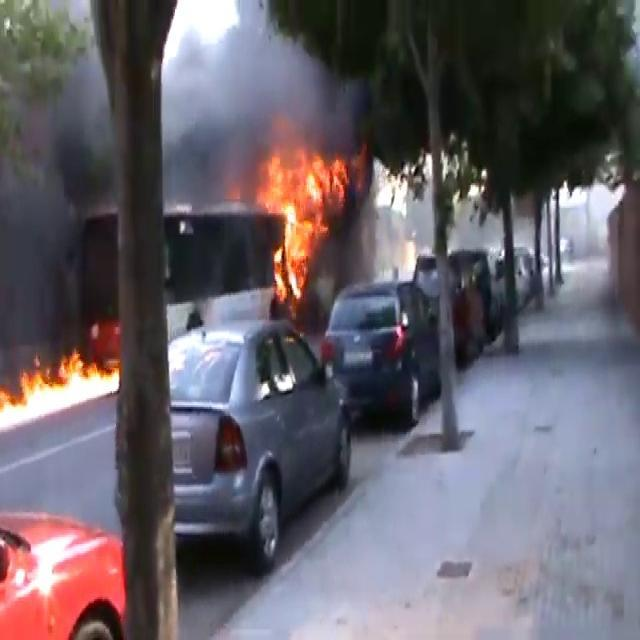Fire: (252, 140, 349, 302), (0, 340, 116, 422)
Smoke: (0, 51, 117, 350), (160, 1, 311, 207)
